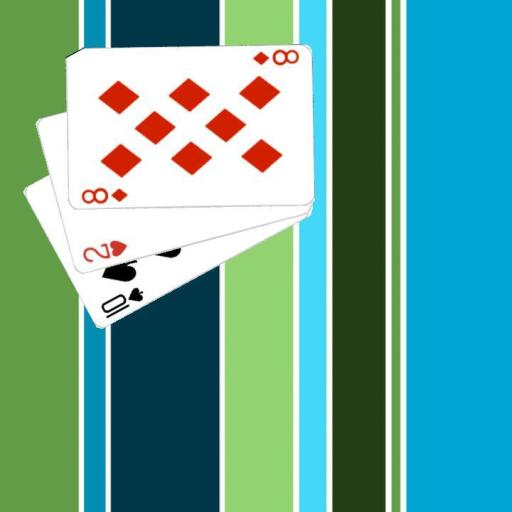10S: (97, 284, 145, 321)
2H: (79, 237, 129, 264)
8D: (78, 184, 129, 206), (249, 48, 300, 68)
